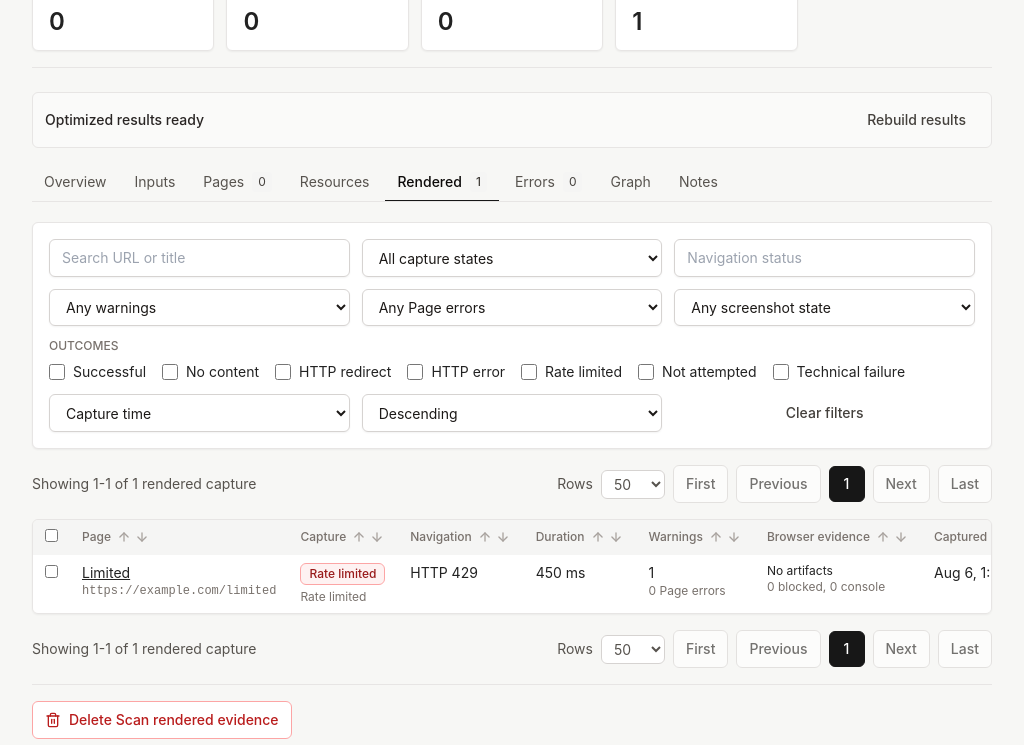
Scenario: scan results workflow › keeps legacy bulk-deletion cleanup warnings visible on Scan Rendered
(page scrolled)
Click the checkbox named "Select https://example.com/limited": click(52, 572) [45,565,58,578]
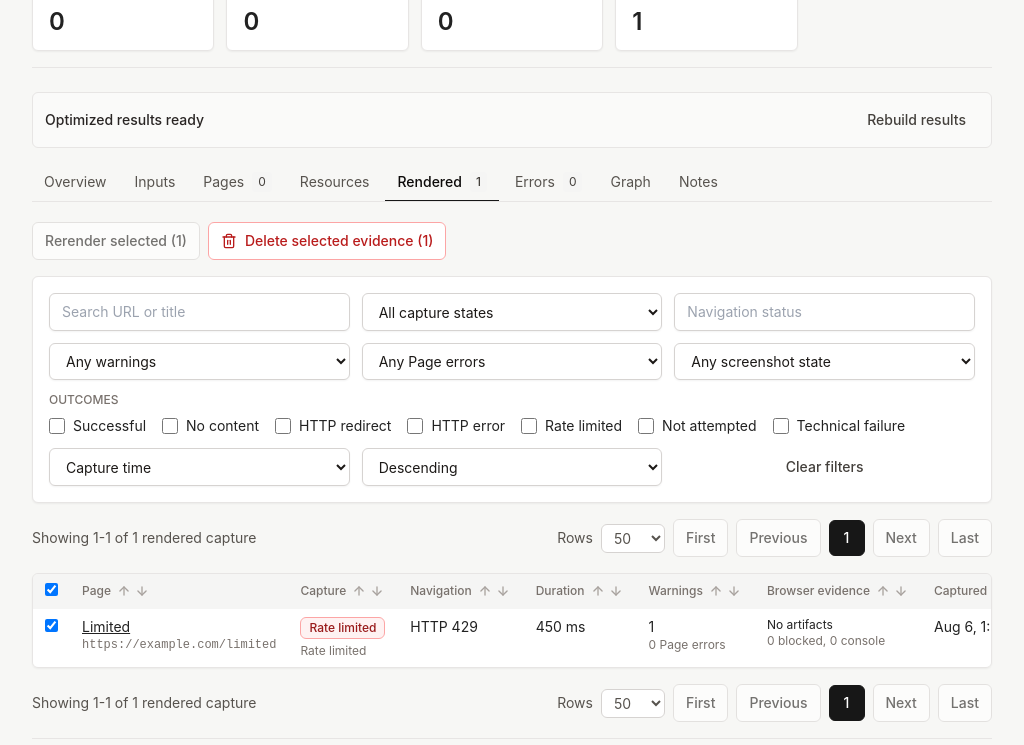
Click the button "Delete selected evidence (1)": click(327, 241) [208,222,446,260]
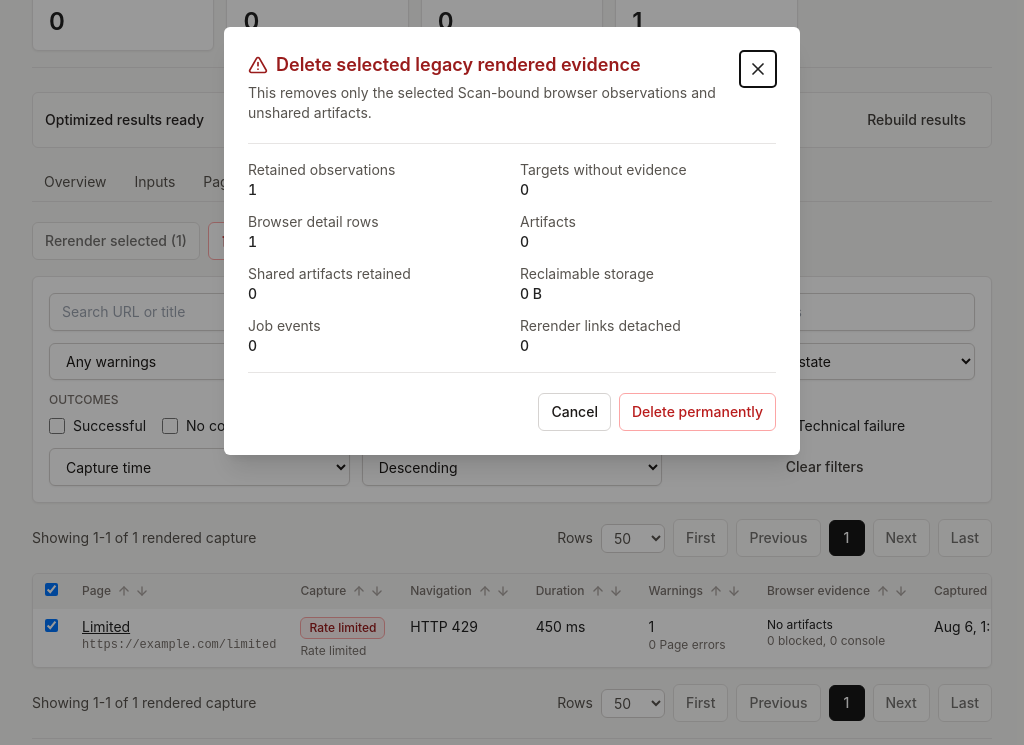
Expected: the button "Delete permanently" is enabled
Click the button "Delete permanently": click(698, 412) [619,393,776,431]
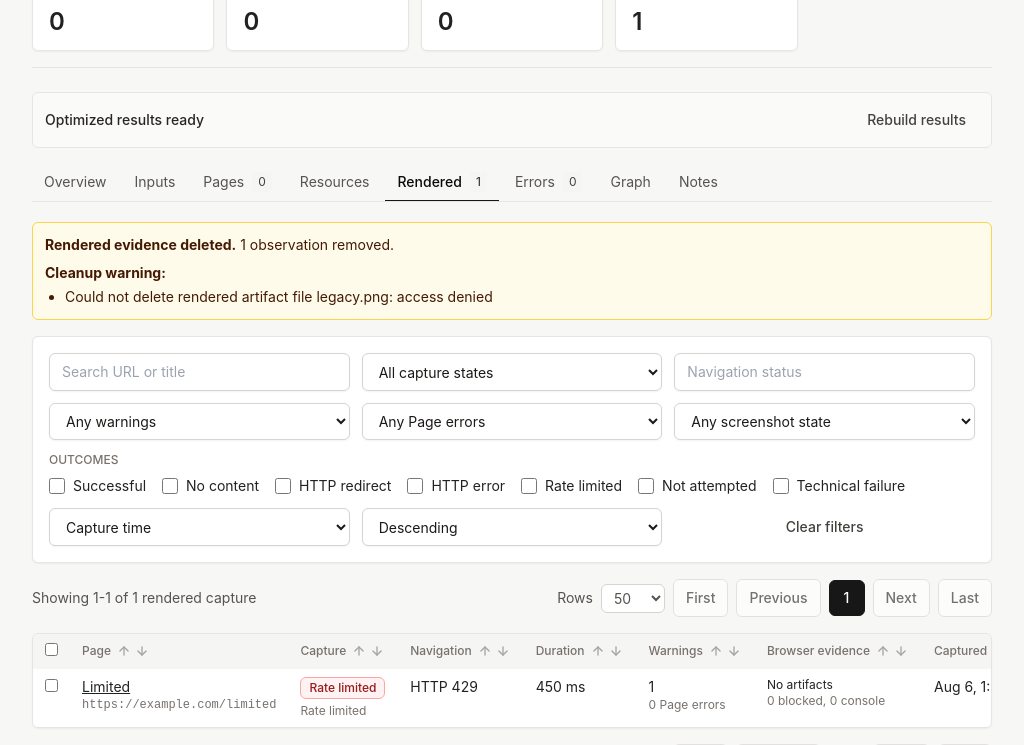
Expected: the list item "Could not delete rendered artifact file legacy.png: access denied" is shown, [65,288,493,305]
Expected: the text "Cleanup warning:" is shown, [45,264,166,281]
Expected: the button "Delete selected evidence (1)" is gone
